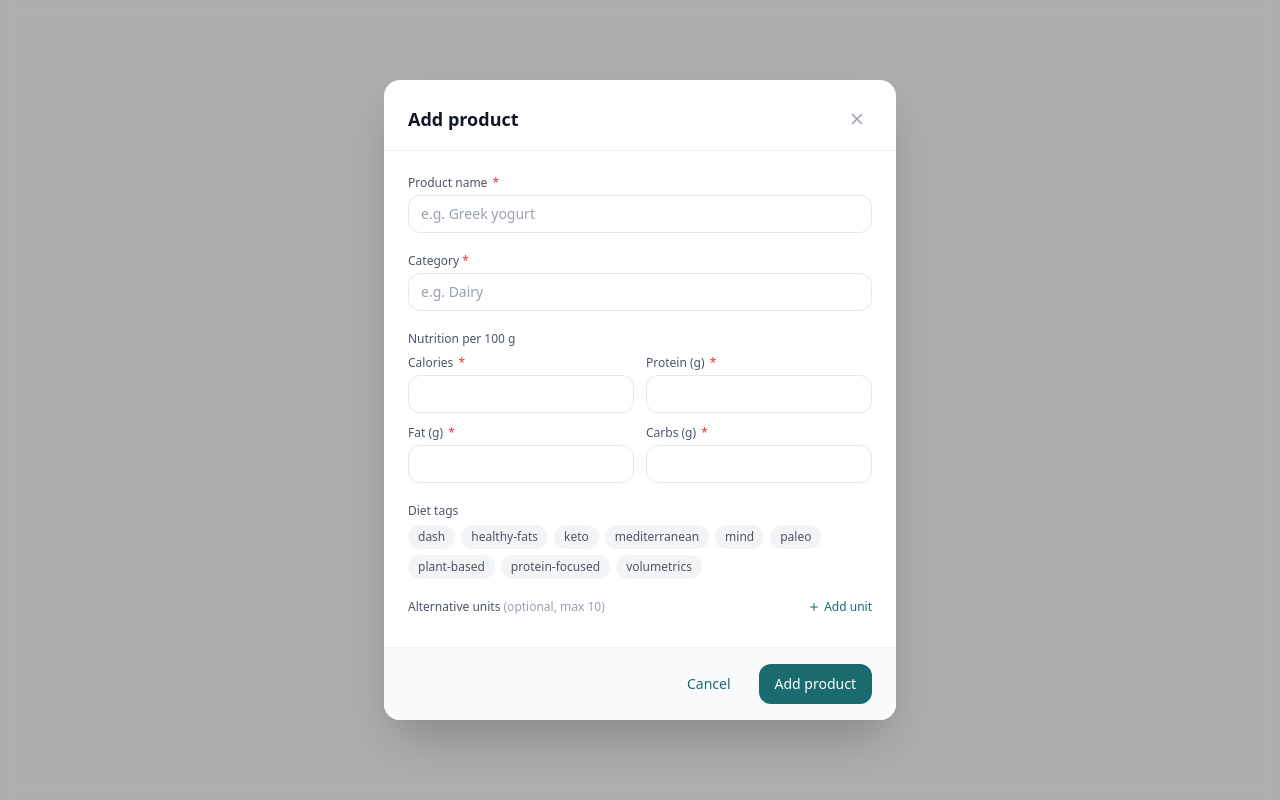
ProductForm › shows error for negative calories
The width and height of the screenshot is (1280, 800).
Type "Test" into the field labelled "Product name *".
click(640, 214); type("Test")  # box x1=408 y1=195 x2=872 y2=233
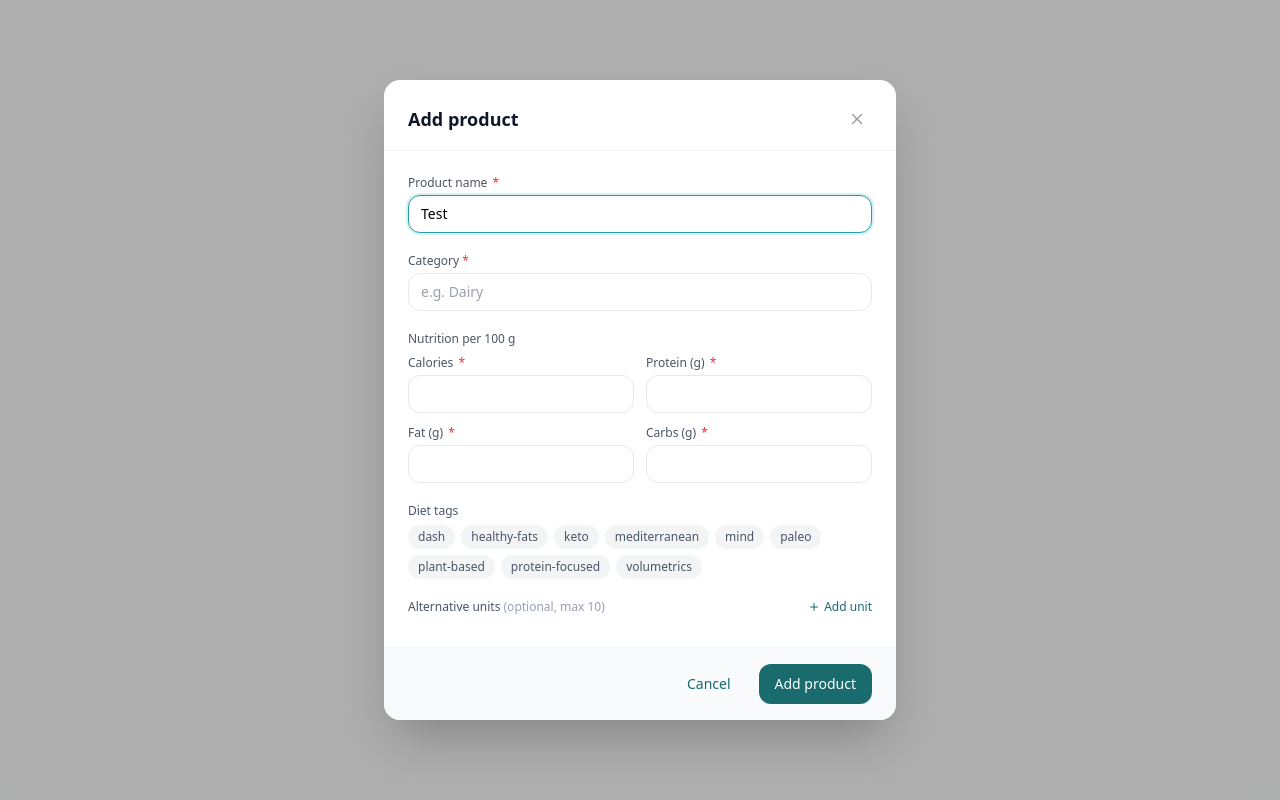
Type "Meat" into the field with placeholder "e.g. Dairy".
click(640, 292); type("Meat")  # box x1=408 y1=273 x2=872 y2=311
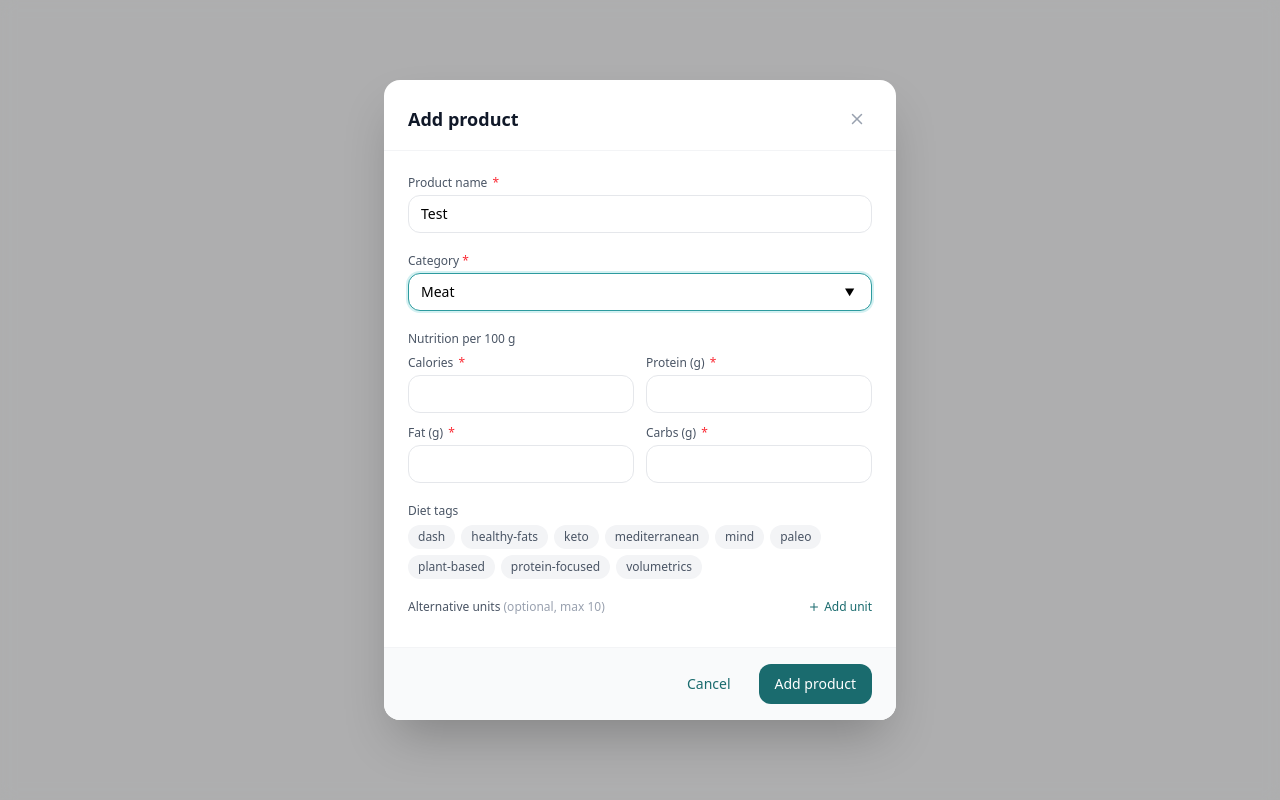
Type "-5" into the number field labelled "Calories *".
click(521, 394); type("-5")  # box x1=408 y1=375 x2=634 y2=413
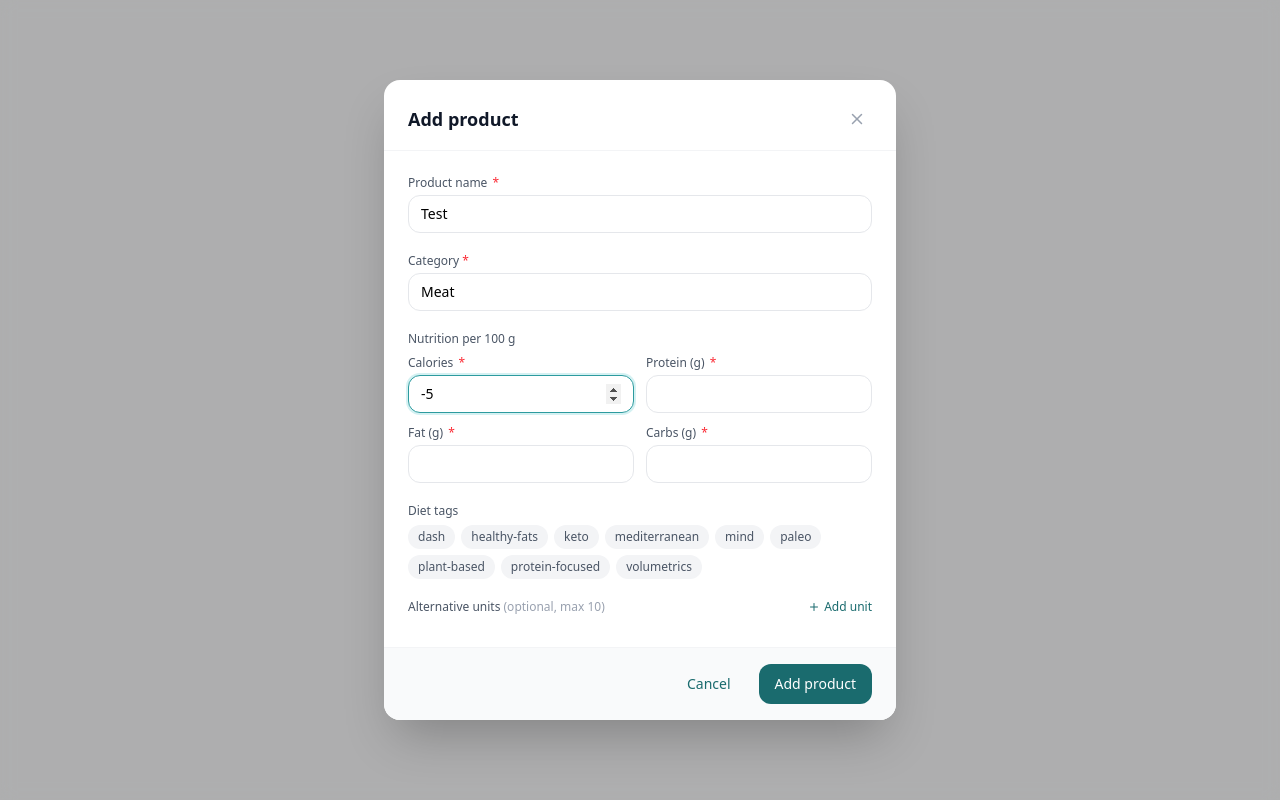
Click the button "Add product".
click(815, 684)  # box x1=759 y1=664 x2=872 y2=704
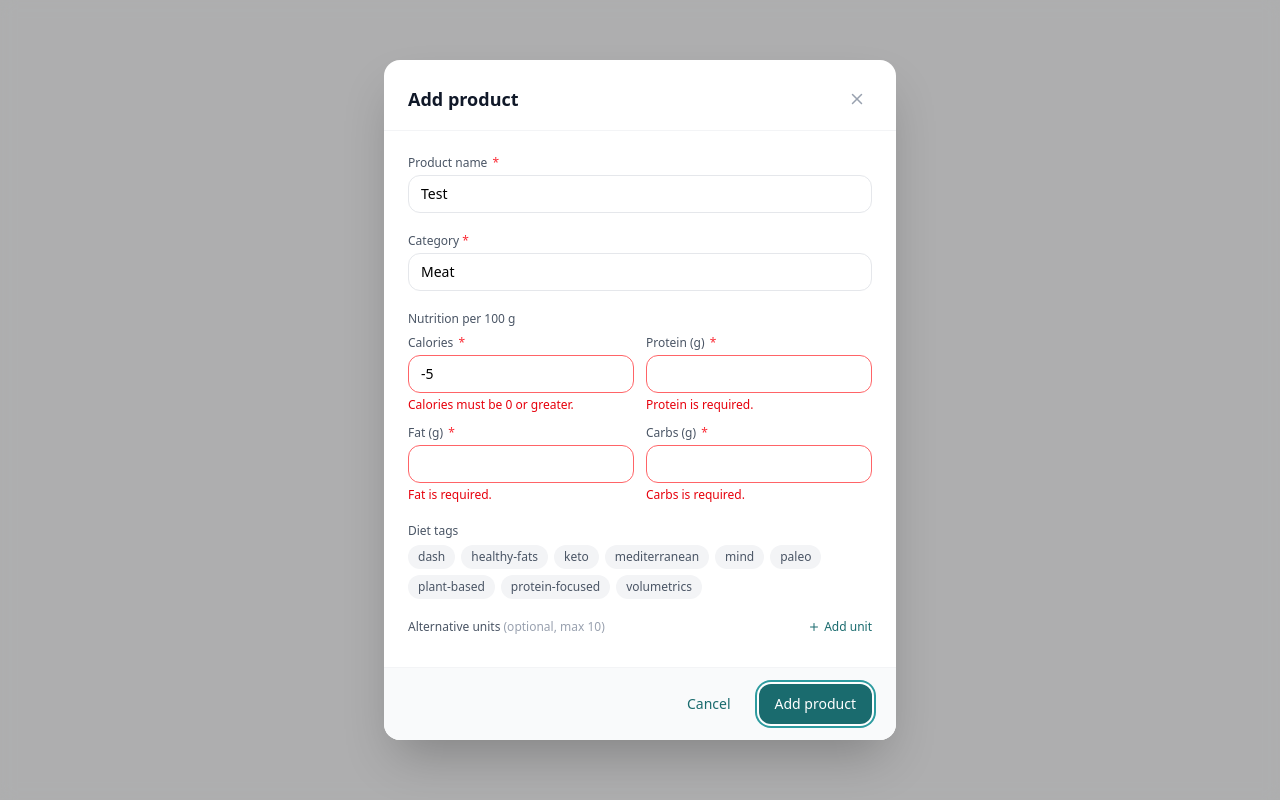
Check: the text "Calories must be 0 or greater." is shown, box x1=408 y1=396 x2=574 y2=413
